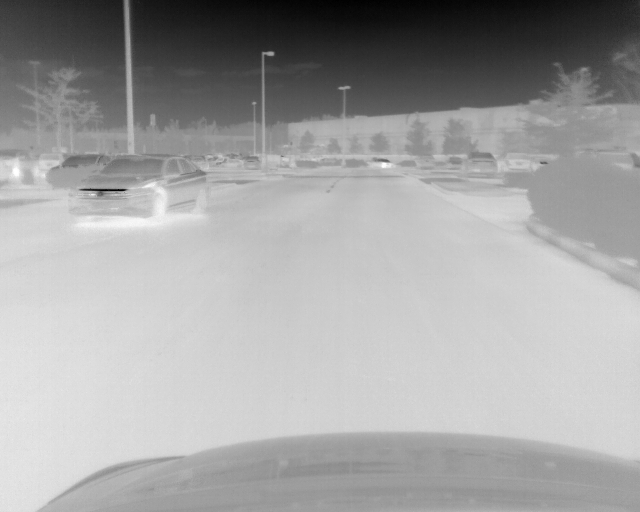car: (68, 156, 209, 223), (49, 152, 111, 187), (1, 149, 32, 177), (463, 153, 498, 176), (502, 152, 530, 174), (39, 153, 63, 173), (415, 152, 434, 169), (447, 155, 463, 169), (219, 157, 241, 167), (374, 158, 390, 169), (245, 156, 259, 168)
